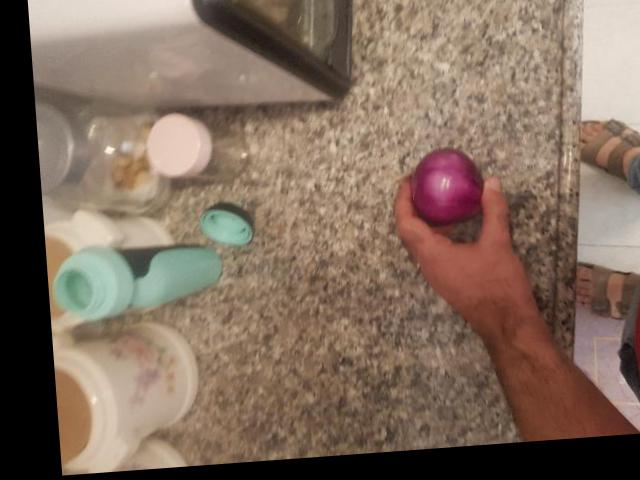onion: (214, 6, 287, 94)
